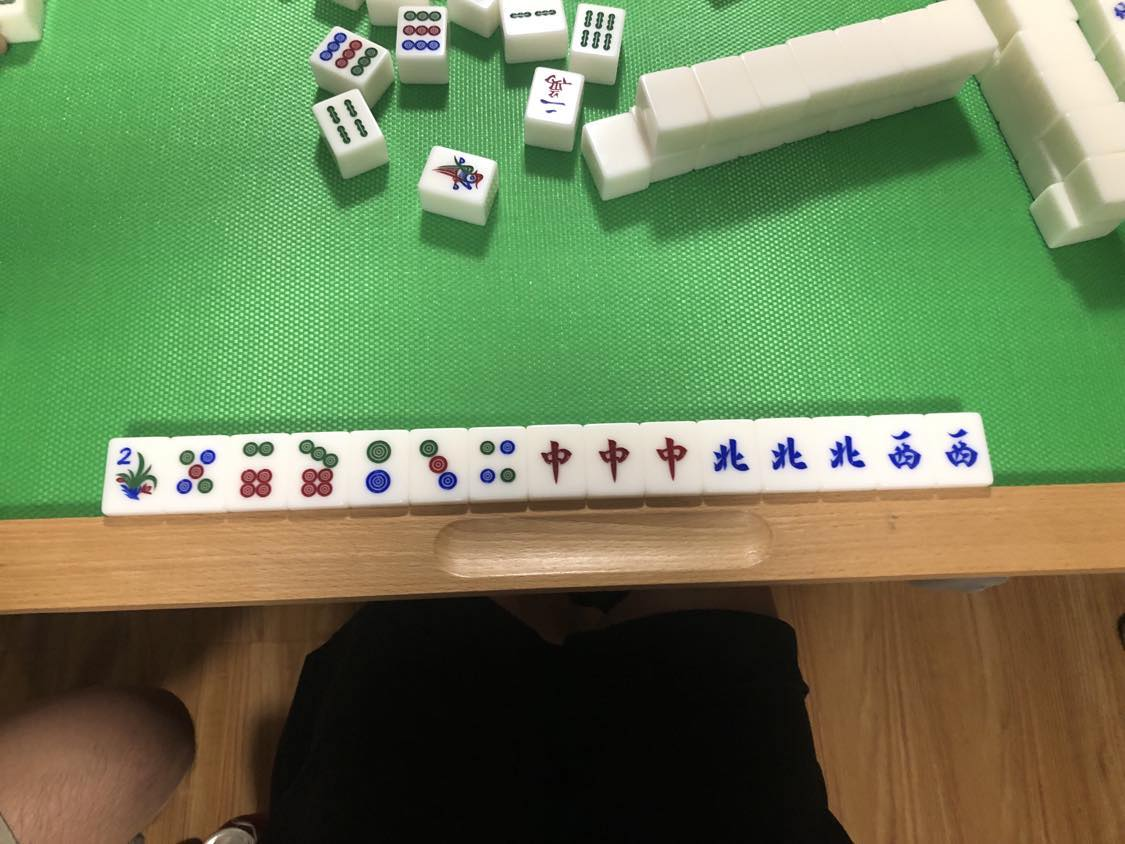circle-five: (172, 441, 227, 504)
circle-four: (473, 433, 522, 493)
circle-seven: (289, 436, 345, 503)
circle-six: (236, 438, 282, 504)
circle-three: (410, 430, 465, 495)
circle-two: (355, 434, 403, 499)
flower-blue_two: (110, 438, 163, 510)
honor-north_wind: (762, 424, 812, 482), (704, 424, 753, 482), (823, 425, 870, 480)
honor-red_dragon: (528, 428, 582, 492), (588, 427, 640, 489), (650, 426, 694, 487)
honor-west_wind: (880, 423, 928, 477), (944, 419, 980, 474)
